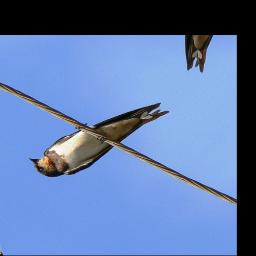Swallow: (22, 73, 173, 201)
